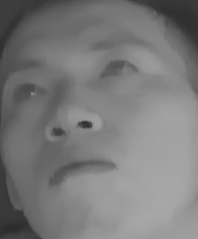eye: (97, 55, 142, 85), (10, 77, 52, 106)
mouth: (44, 151, 118, 191)
